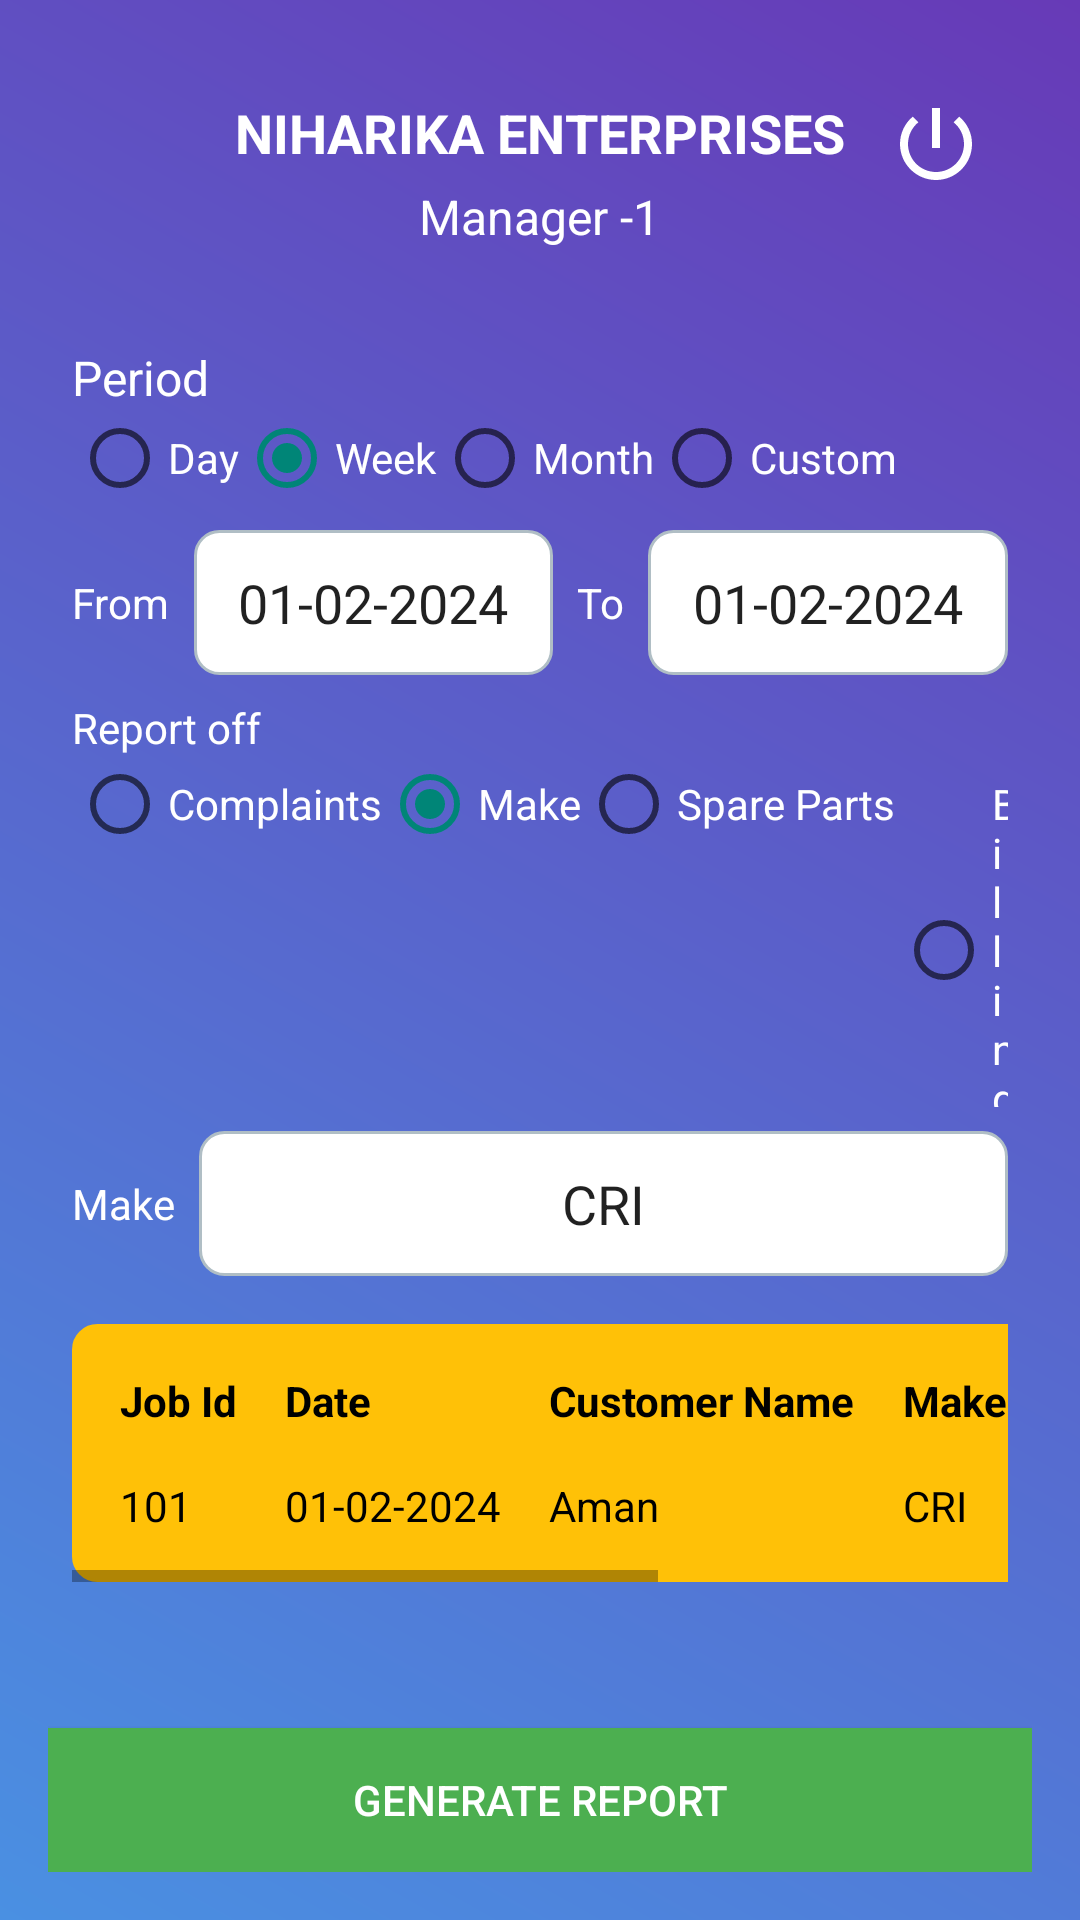

Locate icon controls on the screen. Image size 1080x1920, boxes as {"left": x1, "top": y1, "right": x2, "bottom": y2}.
power: {"left": 900, "top": 108, "right": 972, "bottom": 180}
